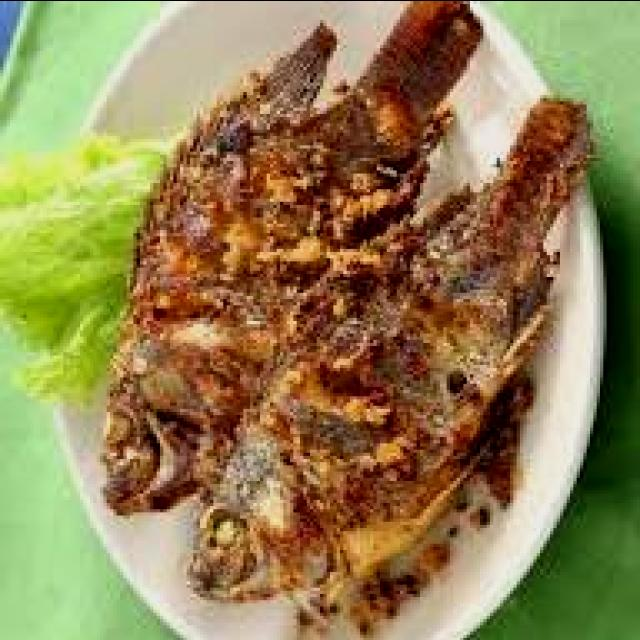ikan goreng: (200, 97, 590, 621), (103, 0, 483, 515)
